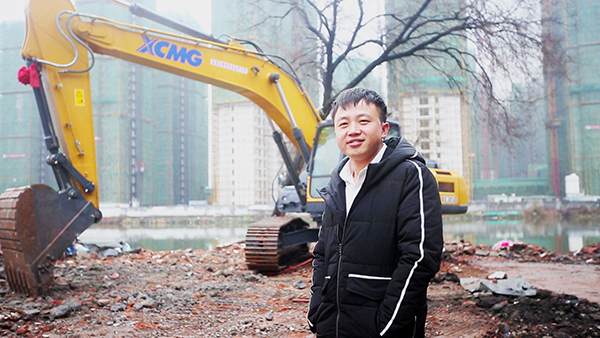excavator: (7, 1, 475, 289)
